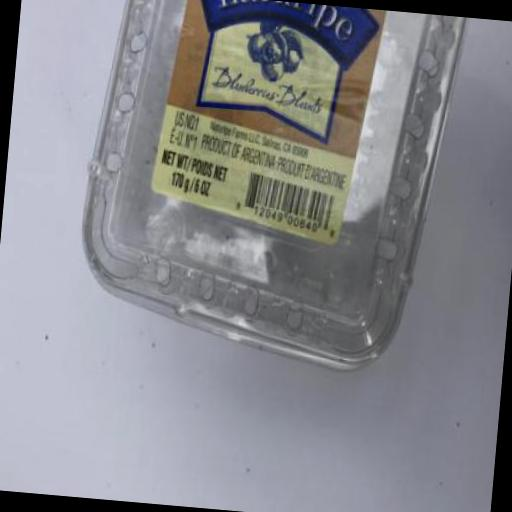plastic: (70, 0, 469, 379)
